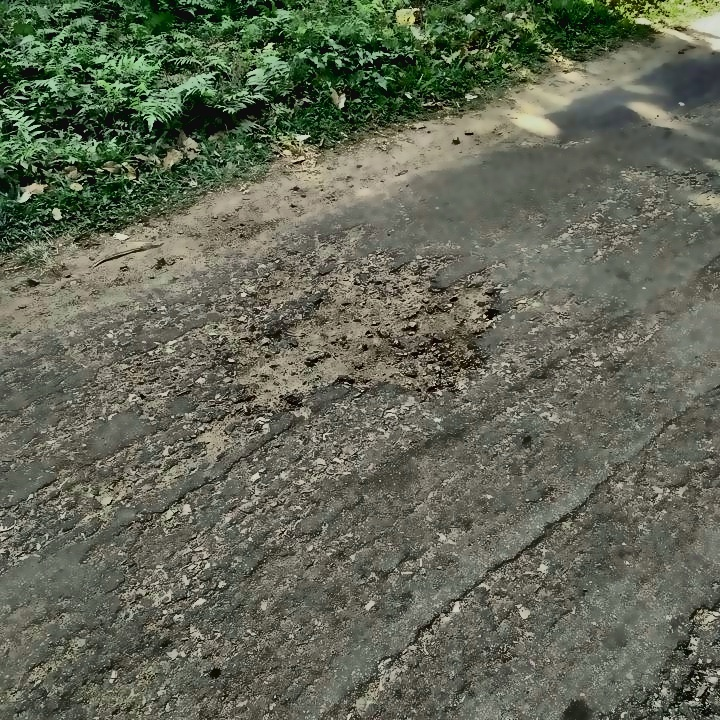pothole: (238, 250, 508, 408)
